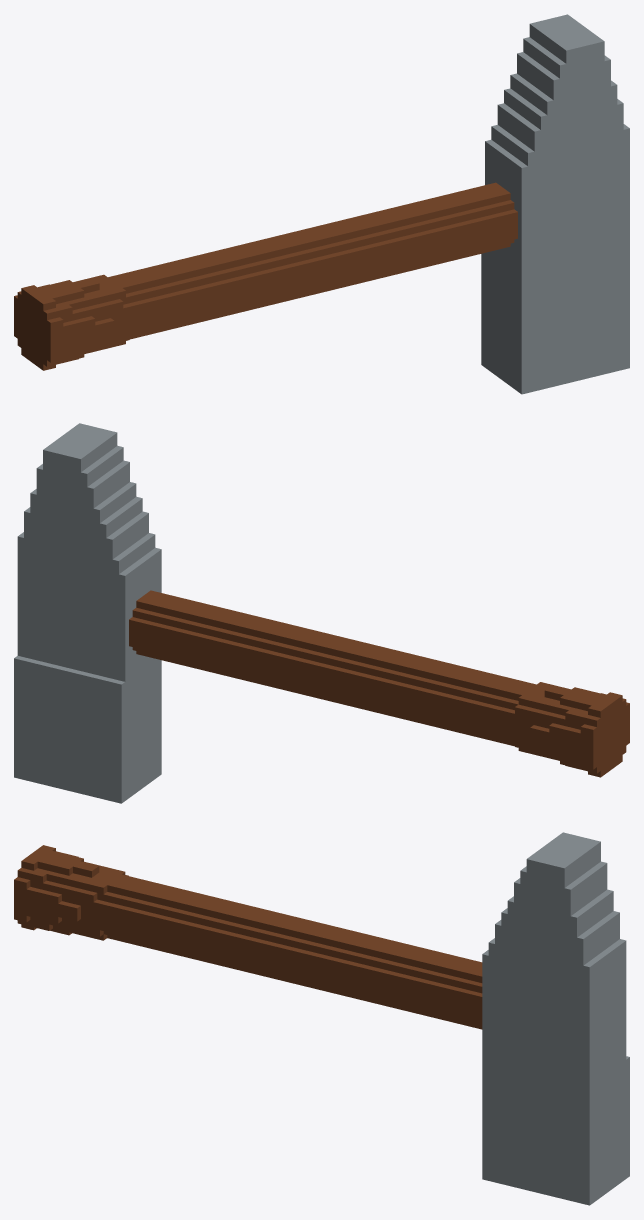
Rendered from hammer.glb.
The picture shows the model from 3 angles, top to bottom: view 1: azimuth 30°, elevation 25°; view 2: azimuth 150°, elevation 25°; view 3: azimuth 330°, elevation 25°; orthographic projection.
Parts seen in each view (by area): view 1: hammer:hammer; view 2: hammer:hammer; view 3: hammer:hammer.
Boxes of the visible parts, x1,y1,x2,y2 form: hammer:hammer: [14, 14, 629, 394]; hammer:hammer: [14, 423, 629, 803]; hammer:hammer: [14, 832, 629, 1205].
Size of the model in its own units: 0.364 by 0.2 by 0.044.
